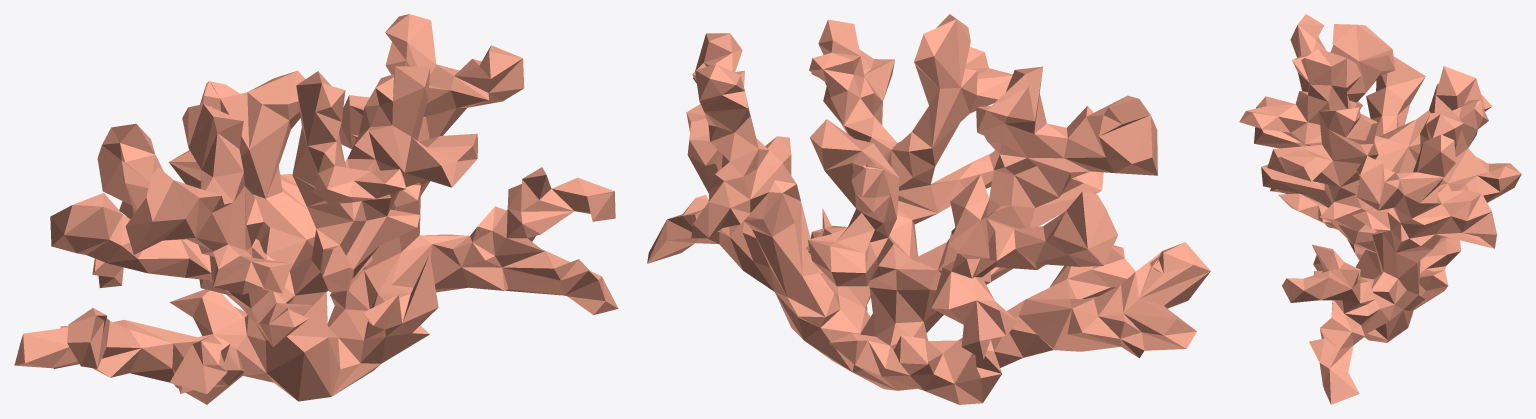
File: Coral_024.glb
3 renders of one model, left to right at view 1: azimuth 30°, elevation 25°; view 2: azimuth 150°, elevation 25°; view 3: azimuth 270°, elevation 25°, orthographic. The views are drawn at different scales.
Visible parts, largest first — view 1: Coral_024; view 2: Coral_024; view 3: Coral_024.
Boxes of the visible parts, left/top/right/bottom form: Coral_024: left=14, top=14, right=618, bottom=404; Coral_024: left=647, top=14, right=1210, bottom=404; Coral_024: left=1239, top=14, right=1521, bottom=404.
Size of the model in its own units: 1.19 by 0.6961 by 0.6443.
Materials: 1 (1 with a texture image).
